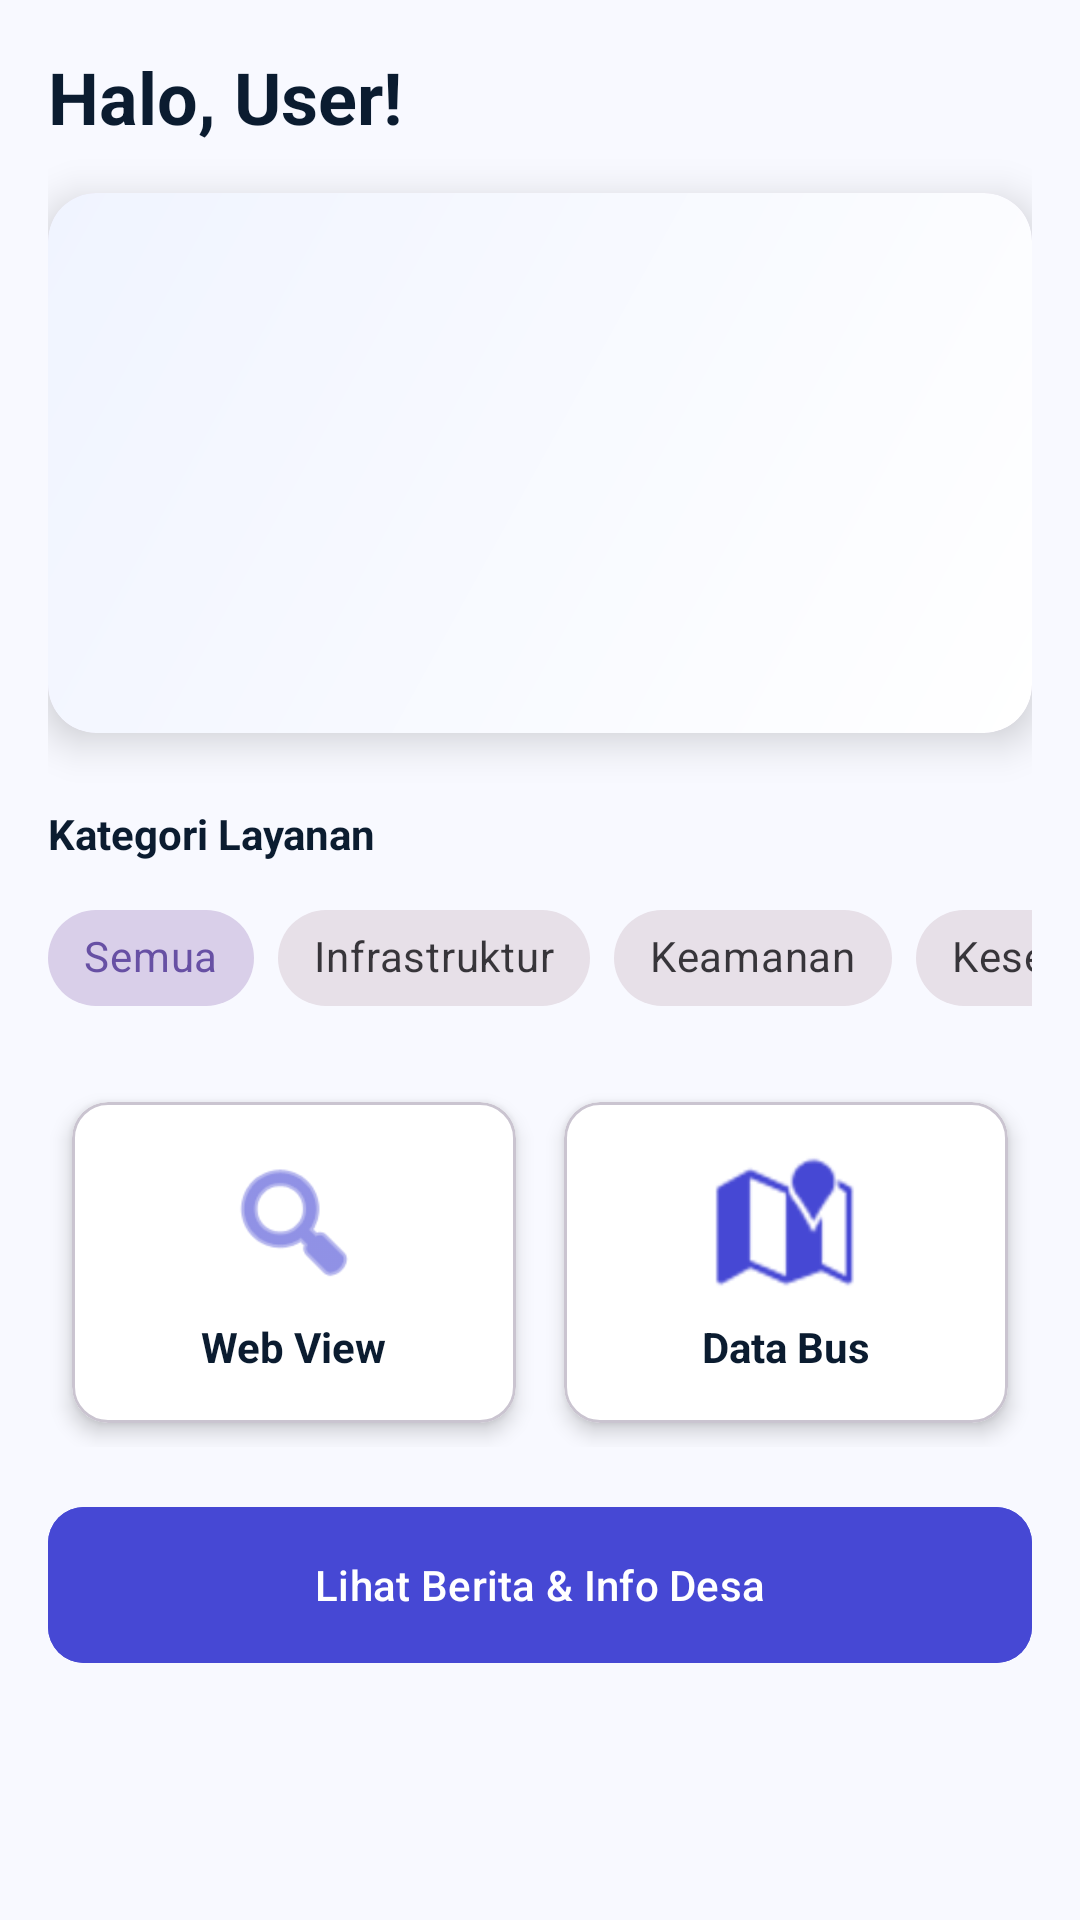

Icons on this 1080*1920 Android screen, each with its box as (x1, y1, x2, y2):
map: (716, 1158, 854, 1285)
search: (241, 1169, 347, 1276)
